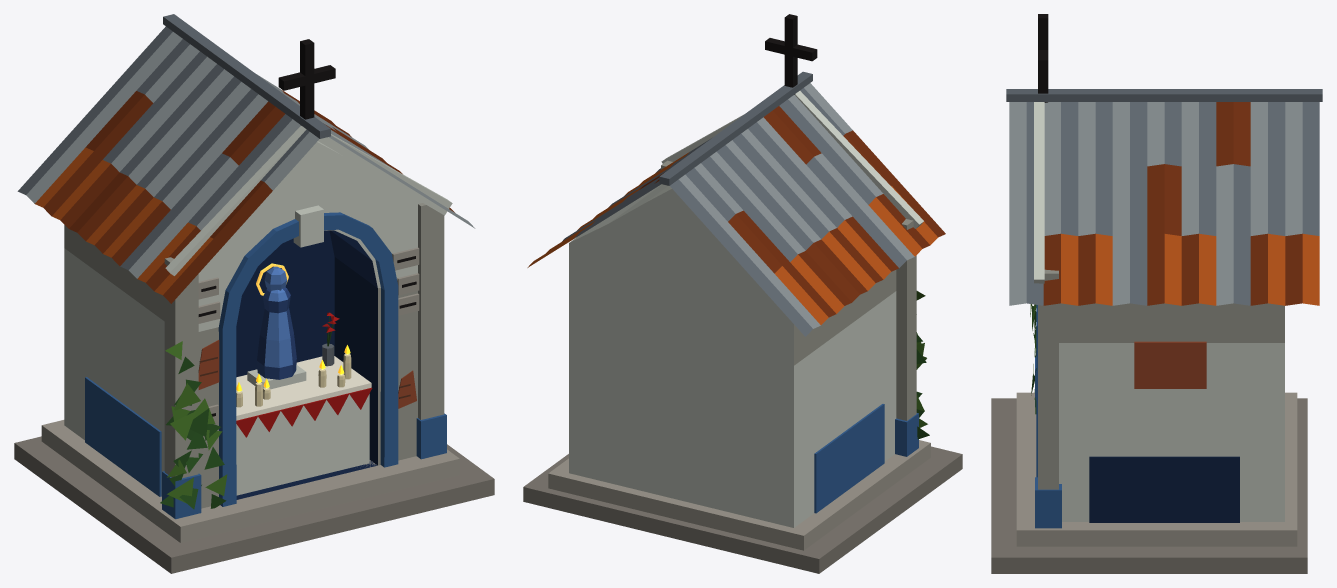
The model's file is chapel.glb.
3 renders of one model, left to right at view 1: azimuth 30°, elevation 25°; view 2: azimuth 150°, elevation 25°; view 3: azimuth 270°, elevation 25°, orthographic. The views are drawn at different scales.
Parts seen in each view (by area): view 1: chapel; view 2: chapel; view 3: chapel.
Part boxes in pixels (left/top/right/bottom): chapel: left=14, top=14, right=494, bottom=573; chapel: left=523, top=14, right=962, bottom=573; chapel: left=991, top=14, right=1322, bottom=573.
Size of the model in its own units: 2.5 by 3.5 by 2.2.
